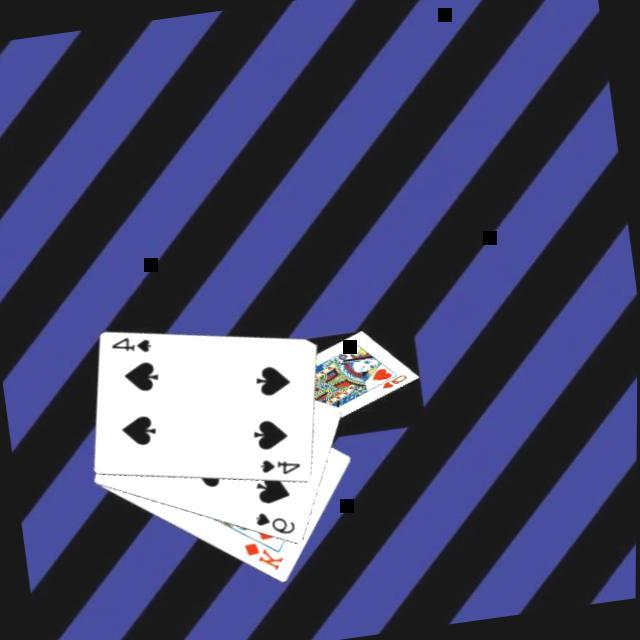4S: (107, 333, 155, 363), (257, 454, 306, 483)
6S: (251, 506, 300, 544)
KD: (240, 536, 288, 580)
